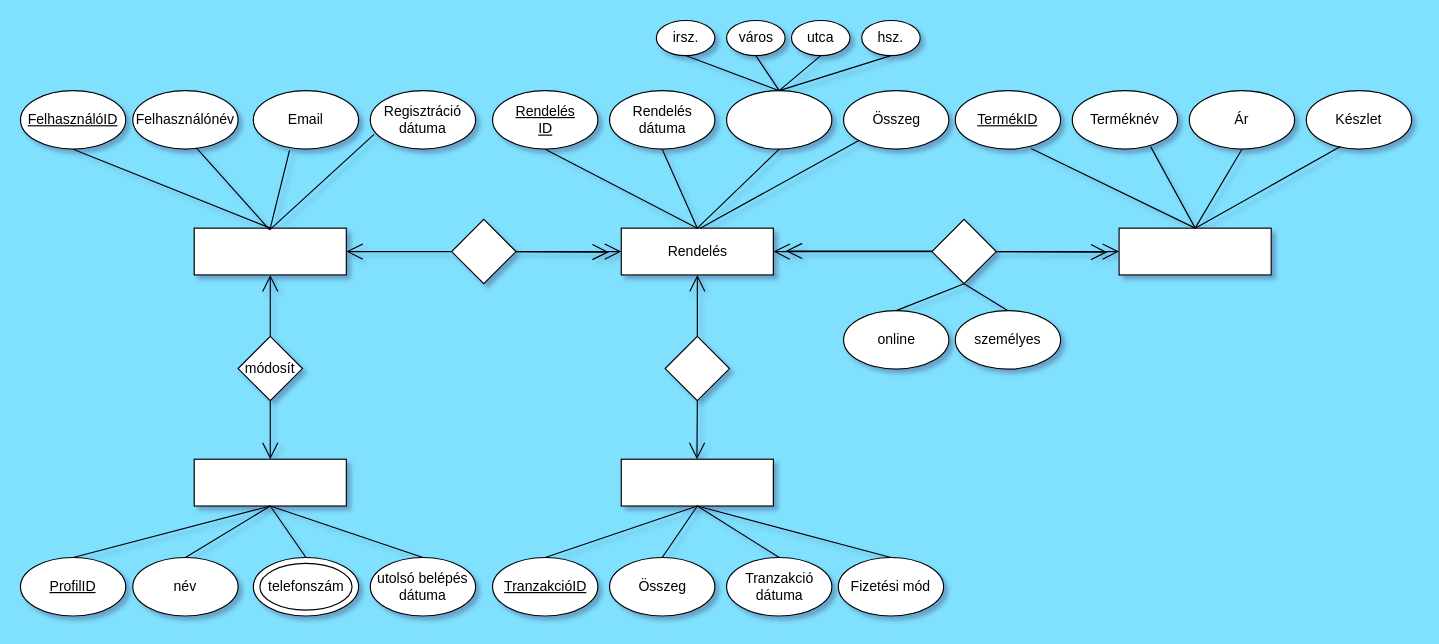
This 1439x644 diagram has some shape labels left out. Each missing label, with the box of its shape:
elküld: (450, 218, 516, 284)
Felhasználó: (193, 227, 346, 275)
Fizetés: (620, 458, 773, 506)
igazolás: (664, 335, 729, 401)
Profil: (193, 458, 346, 506)
Szállítási cím: (725, 90, 832, 149)
Termék: (1118, 227, 1271, 275)
vásárlás: (931, 218, 996, 284)
